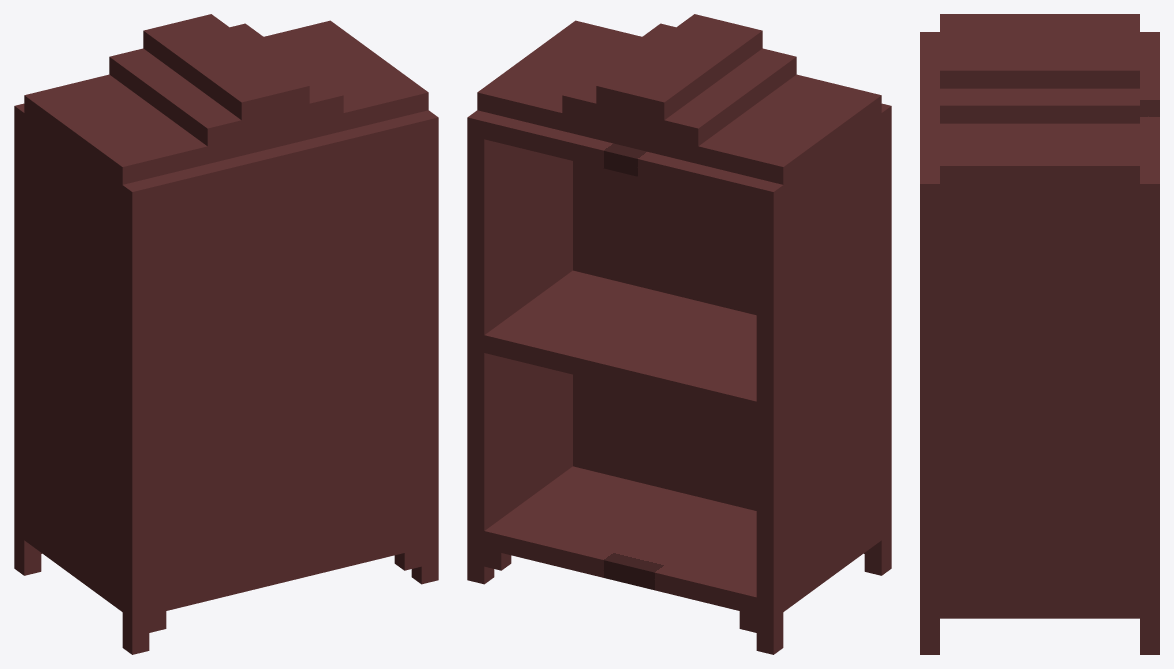
File: komod.dae
3 renders of one model, left to right at view 1: azimuth 30°, elevation 25°; view 2: azimuth 150°, elevation 25°; view 3: azimuth 270°, elevation 25°, orthographic.
Parts seen in each view (by area): view 1: komod.shopping_komod1; view 2: komod.shopping_komod1; view 3: komod.shopping_komod1.
Boxes of the visible parts, box(x1,y1,x2,y2) form: komod.shopping_komod1: box(14, 14, 438, 654); komod.shopping_komod1: box(467, 14, 891, 654); komod.shopping_komod1: box(920, 14, 1159, 654).
Bounding box in the file's own units: 1.8 × 1.2 × 2.9.
Materials: 1 (1 with a texture image).
